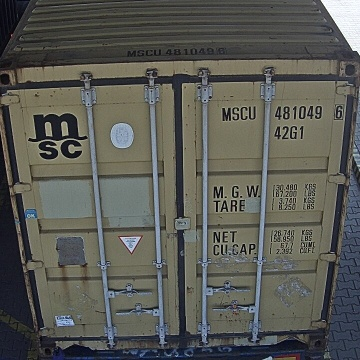serial_id: (222, 105, 344, 120)
